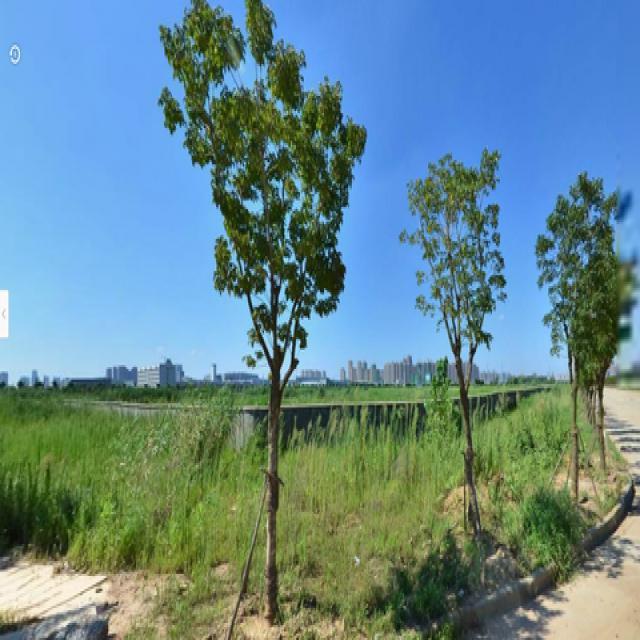cinn: (205, 23, 334, 606), (422, 152, 510, 534), (546, 179, 606, 508)
